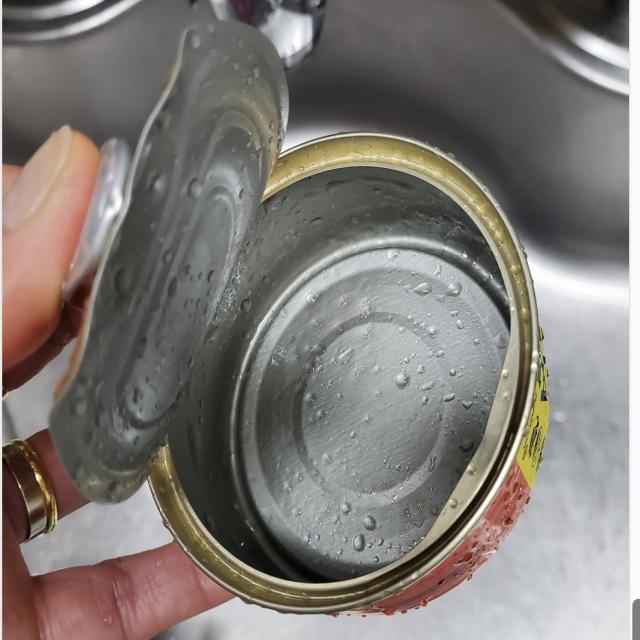recyclable: (65, 21, 576, 622)
